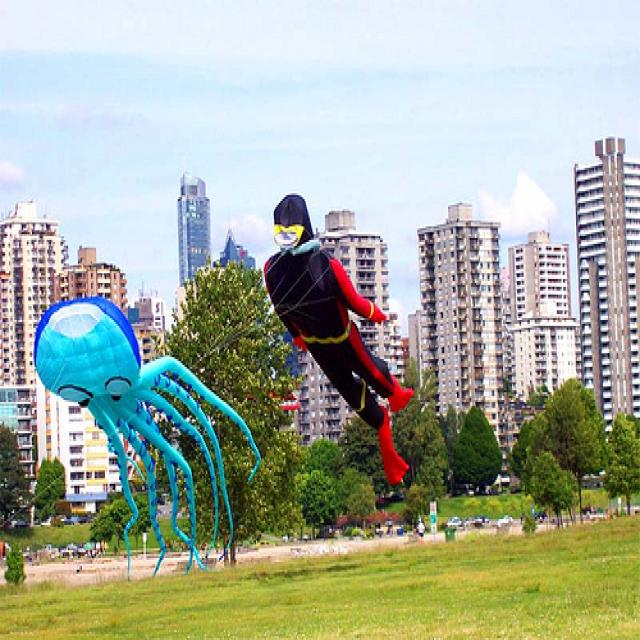Vehicle: (586, 508, 608, 522), (497, 514, 516, 529), (446, 516, 467, 529)
